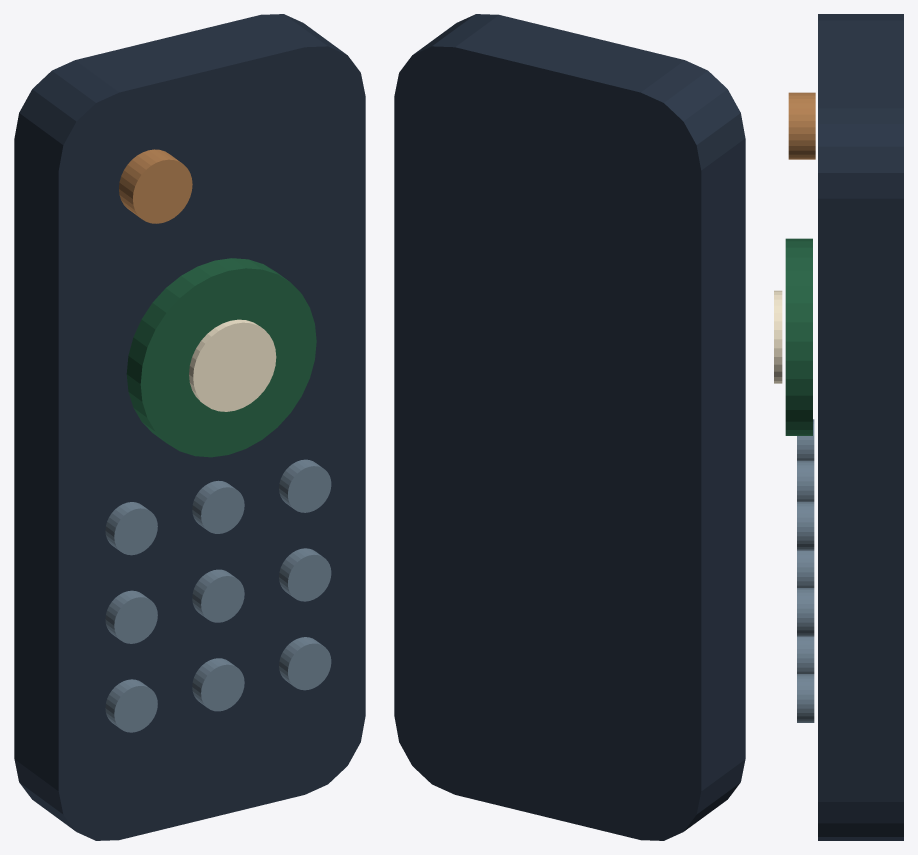
File: remote.glb
3 renders of one model, left to right at view 1: azimuth 30°, elevation 25°; view 2: azimuth 150°, elevation 25°; view 3: azimuth 270°, elevation 25°, orthographic. The views are drawn at different scales.
Parts seen in each view (by area): view 1: housing, direction ring, ok button, power key, key 1-2, key 0-2, key 1-1, key 0-1, key 2-1, key 0-0, key 2-0, key 1-0 (+1 smaller); view 2: housing; view 3: housing, direction ring, power key, key 2-0, key 2-1, key 2-2, ok button, key 1-0, key 1-1, key 1-2, key 0-0.
Boxes of the visible parts, x1=… form: housing: x1=14, y1=14, x2=365, y2=840; direction ring: x1=126, y1=258, x2=316, y2=457; ok button: x1=189, y1=319, x2=276, y2=411; power key: x1=119, y1=149, x2=192, y2=223; key 1-2: x1=192, y1=658, x2=244, y2=711; key 0-2: x1=105, y1=679, x2=157, y2=732; key 1-1: x1=192, y1=569, x2=244, y2=622; key 0-1: x1=105, y1=590, x2=157, y2=643; key 2-1: x1=279, y1=548, x2=331, y2=601; key 0-0: x1=105, y1=502, x2=157, y2=555; key 2-0: x1=279, y1=459, x2=331, y2=512; key 1-0: x1=192, y1=480, x2=244, y2=533; housing: x1=394, y1=14, x2=745, y2=840; housing: x1=818, y1=14, x2=903, y2=840; direction ring: x1=785, y1=238, x2=812, y2=435; power key: x1=788, y1=92, x2=815, y2=159; key 2-0: x1=797, y1=501, x2=814, y2=550; key 2-1: x1=797, y1=588, x2=814, y2=636; key 2-2: x1=797, y1=674, x2=814, y2=722; ok button: x1=774, y1=290, x2=782, y2=383; key 1-0: x1=797, y1=460, x2=814, y2=501; key 1-1: x1=797, y1=550, x2=814, y2=587; key 1-2: x1=797, y1=636, x2=814, y2=673; key 0-0: x1=797, y1=419, x2=814, y2=460.
Bounding box in the file's own units: 0.76 × 1.77 × 0.287.
